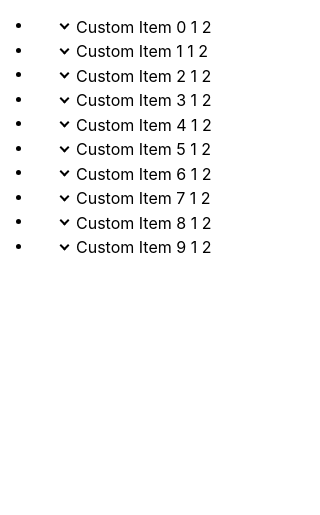
Test: renders with custom item renderer
Click the text "Custom Item 0 1 2" at (144, 26), box x1=76 y1=16 x2=212 y2=36
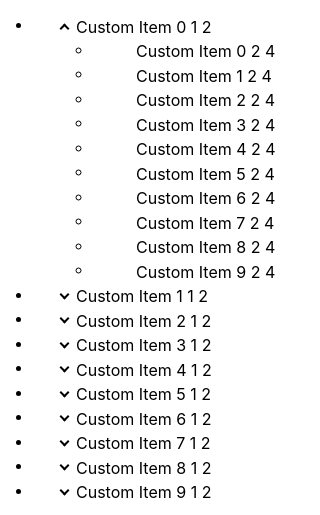
Now the text "Custom Item 0 2 4" is shown 10 times
